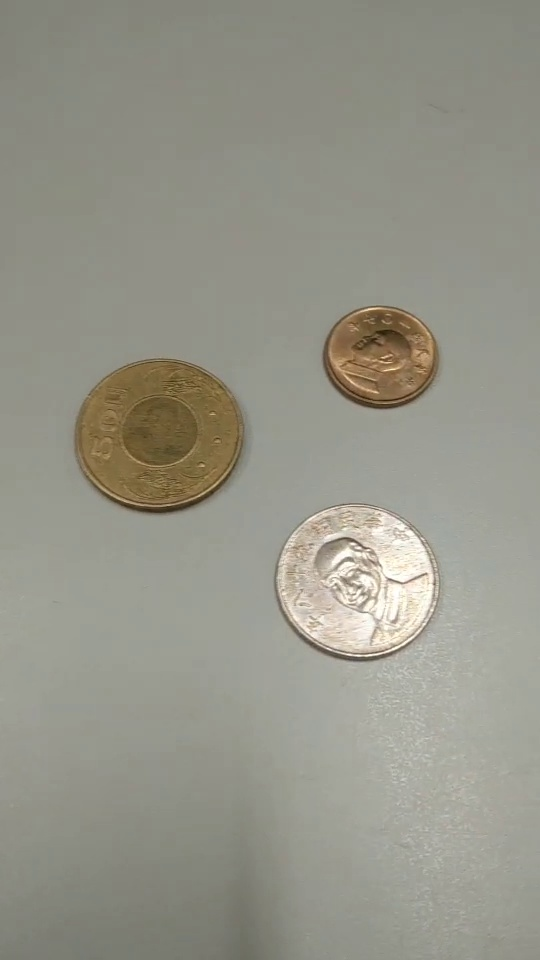NT$ 1: (321, 305, 442, 410)
NT$ 10: (276, 504, 442, 660)
NT$ 50: (72, 357, 246, 514)
